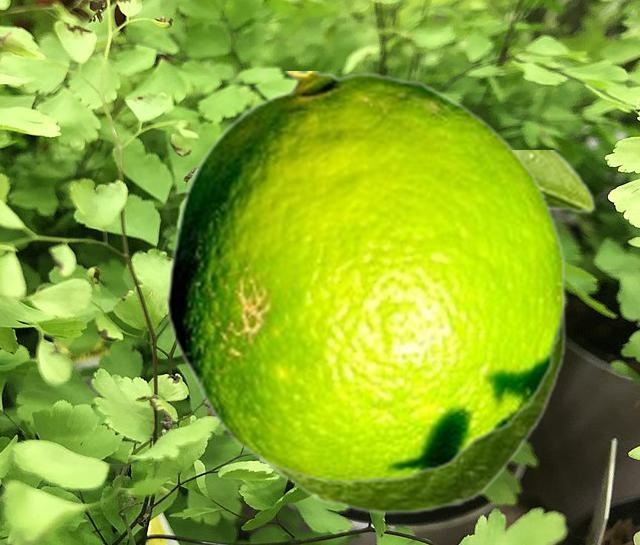dalandan: (166, 71, 565, 483), (255, 150, 595, 513)
